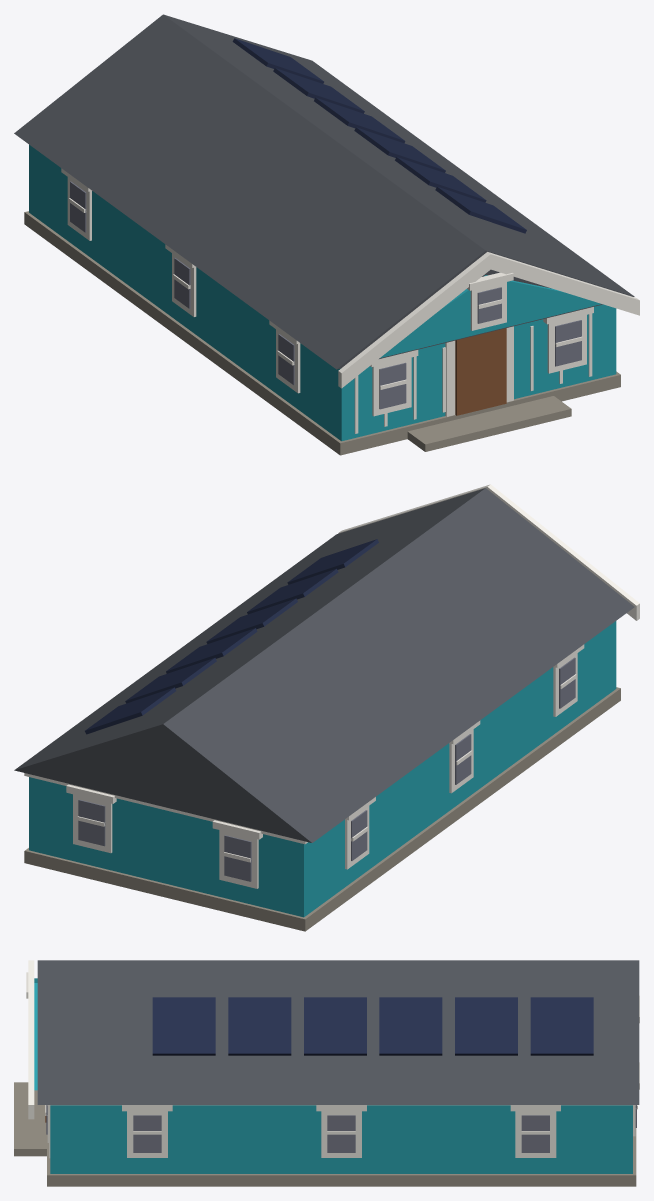
File: house-1x2-1f-valparaiso-a-solar.glb
3 renders of one model, top to bottom at view 1: azimuth 30°, elevation 25°; view 2: azimuth 150°, elevation 25°; view 3: azimuth 270°, elevation 25°, orthographic. The views are drawn at different scales.
Parts seen in each view (by area): view 1: house-1x2-1f-valparaiso-a-solar; view 2: house-1x2-1f-valparaiso-a-solar; view 3: house-1x2-1f-valparaiso-a-solar.
Boxes of the visible parts, box(x1,y1,x2,y2) form: house-1x2-1f-valparaiso-a-solar: box(14, 14, 639, 455); house-1x2-1f-valparaiso-a-solar: box(14, 484, 639, 931); house-1x2-1f-valparaiso-a-solar: box(14, 960, 639, 1186).
Size of the model in its own units: 1.02 by 0.57 by 1.99.
Materials: 1 (1 with a texture image).
